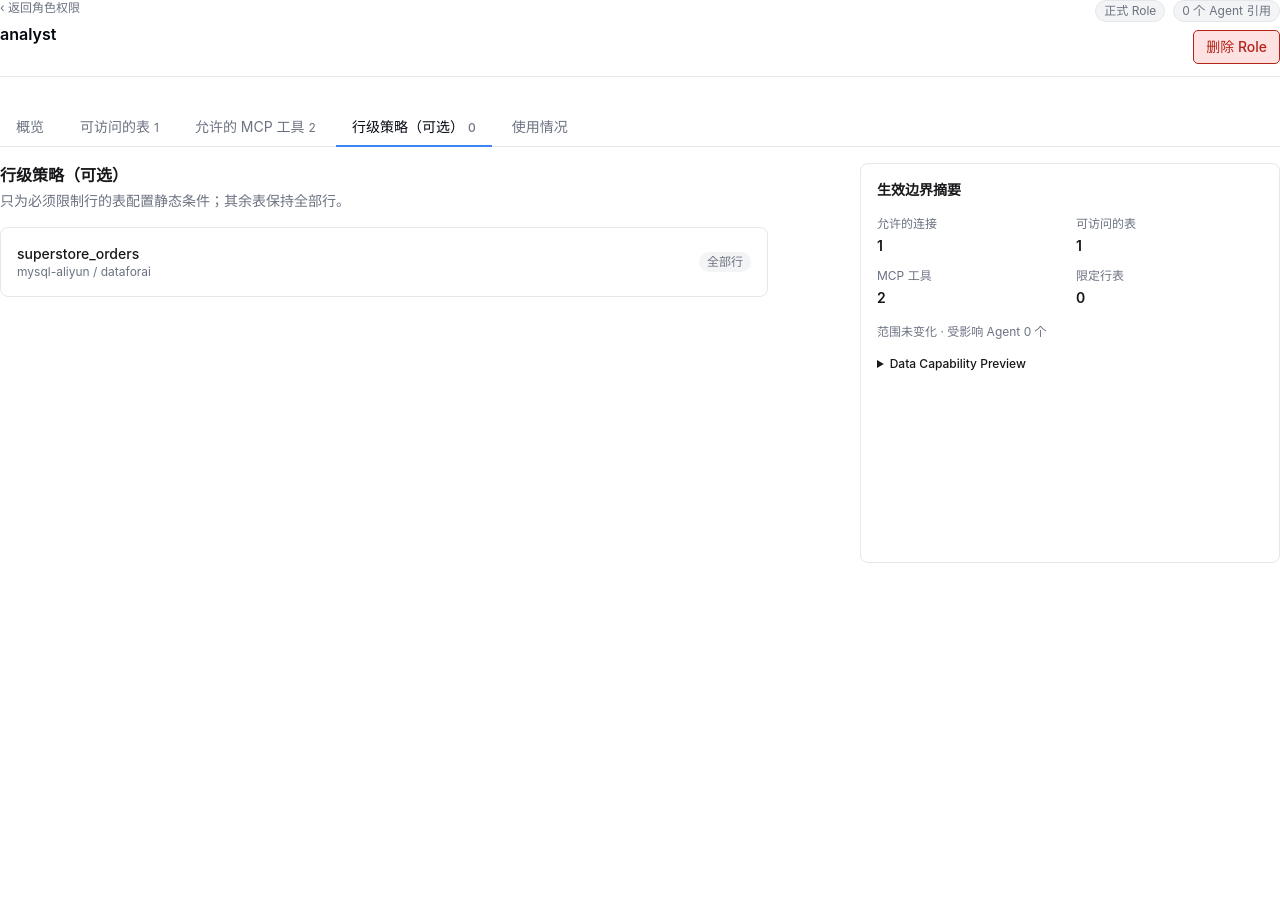
Test case: RoleDetail Spec 150 › edits row policy in a focused Drawer with physical columns only
The width and height of the screenshot is (1280, 900).
Click the button with aria-label "编辑 superstore_orders 行级策略" at (78, 254), box [0,227,768,297]
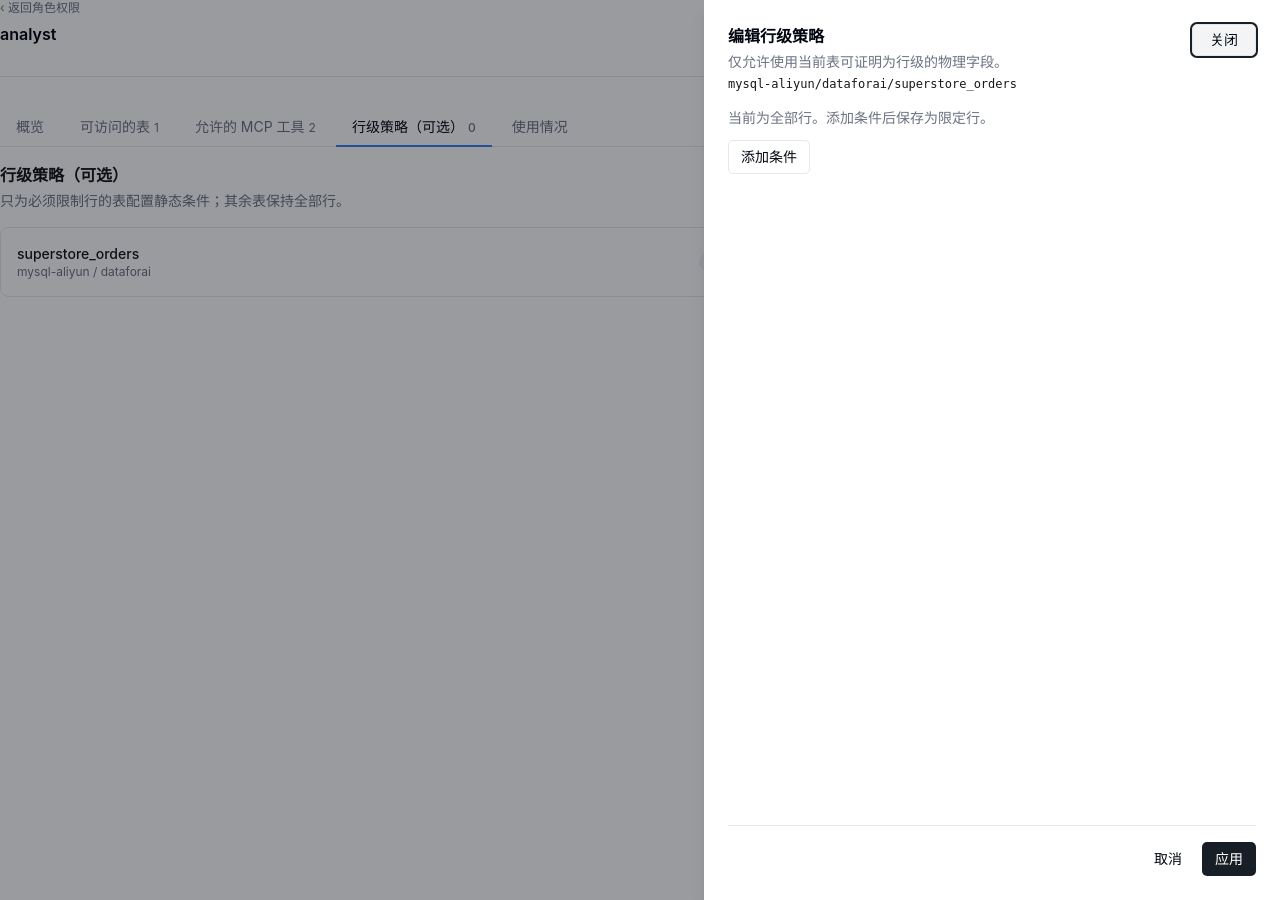
Click the button "添加条件" at (769, 157), box [728,140,810,174]
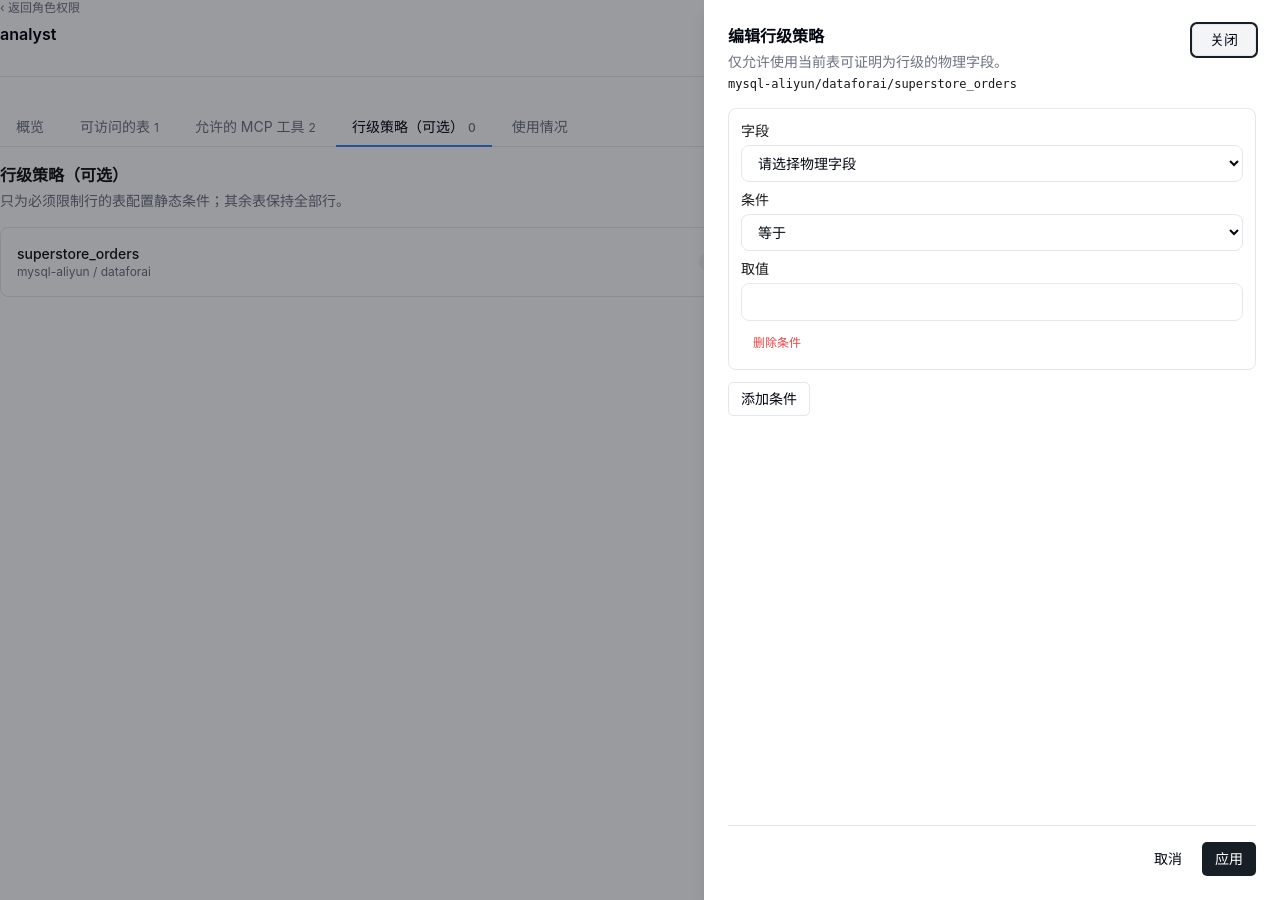
Select "region" in the dropdown named "superstore_orders 条件 1 字段" at (992, 164), box [741,145,1243,182]
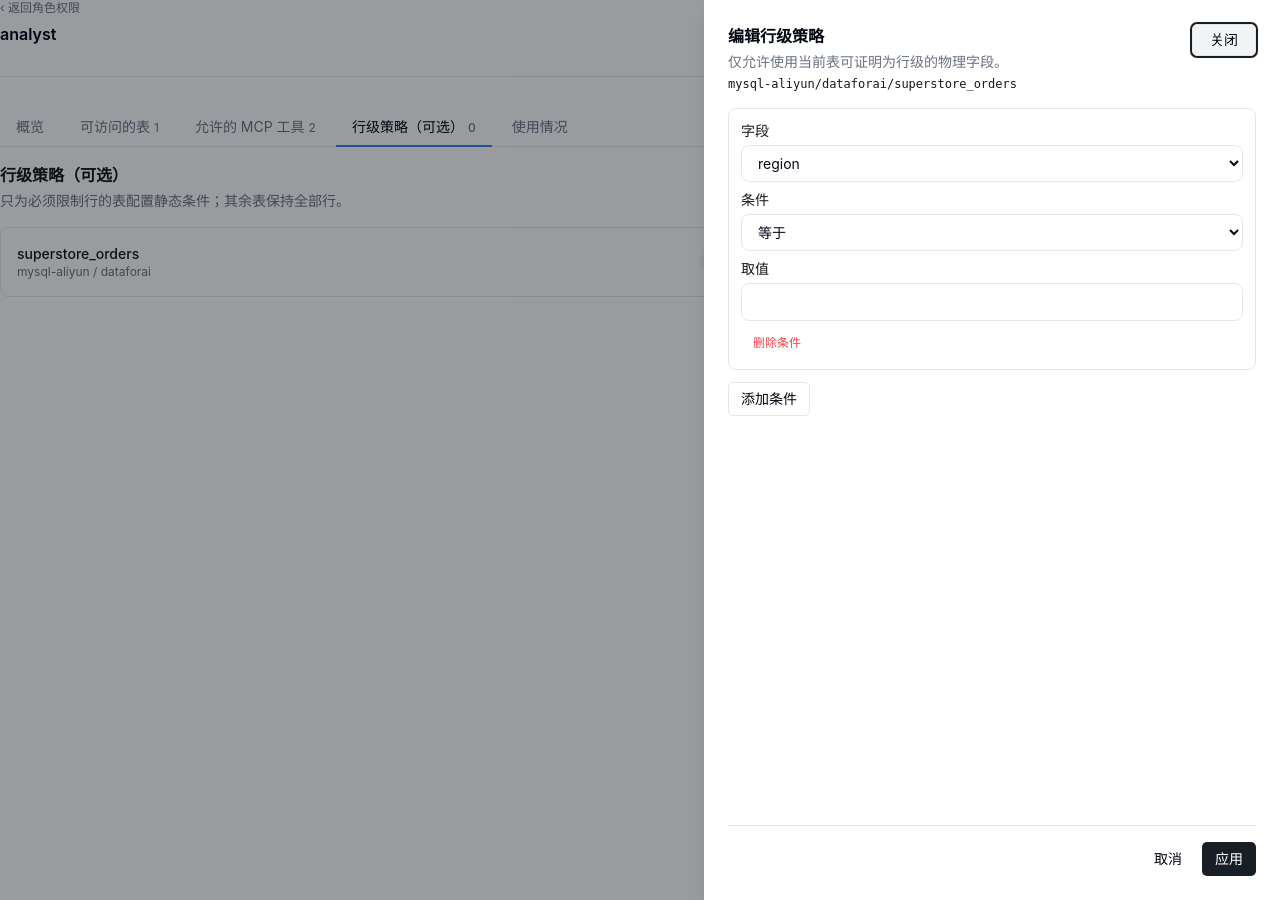
Type "East" into the field named "superstore_orders 条件 1 取值" at (992, 302), box [741,283,1243,321]
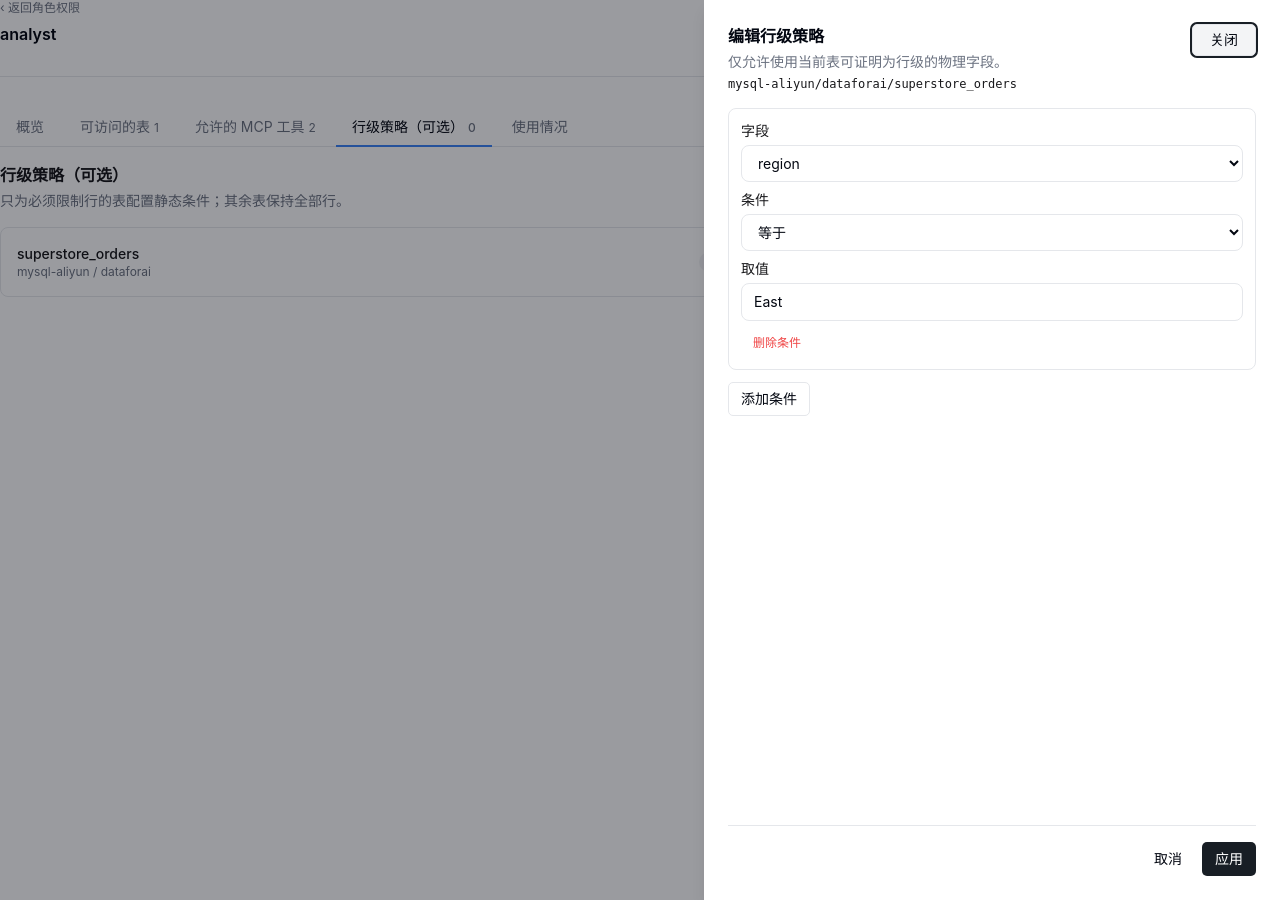
Click the button "应用" at (1229, 859), box [1202,842,1256,876]
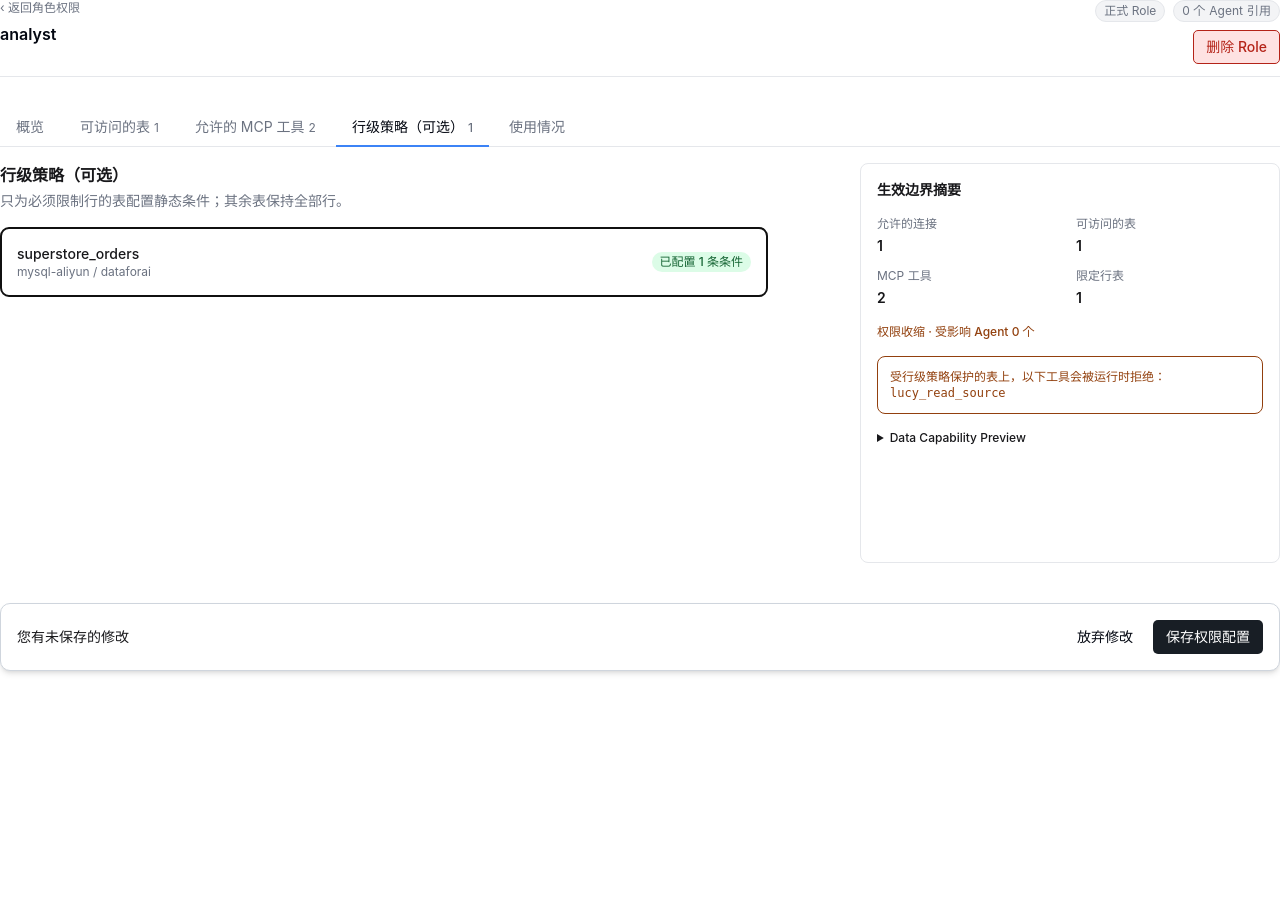
Expected: the text "已配置 1 条条件" is shown, [652,252,751,272]
Expected: the element with test id "row-policy-tool-warning" is shown, [877,356,1263,414]
